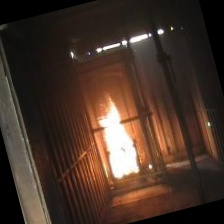fire: (88, 87, 148, 186)
